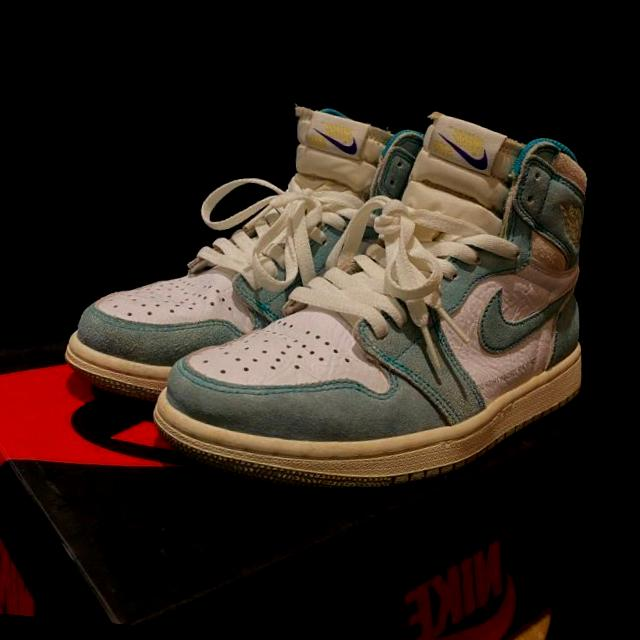nike_original_jordan: (146, 90, 606, 511), (58, 79, 452, 417)
